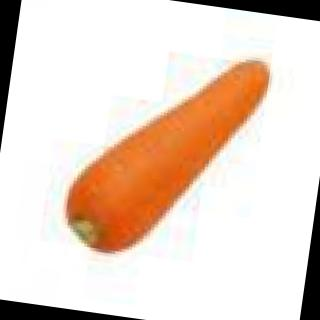Wortel: (29, 24, 289, 284)
